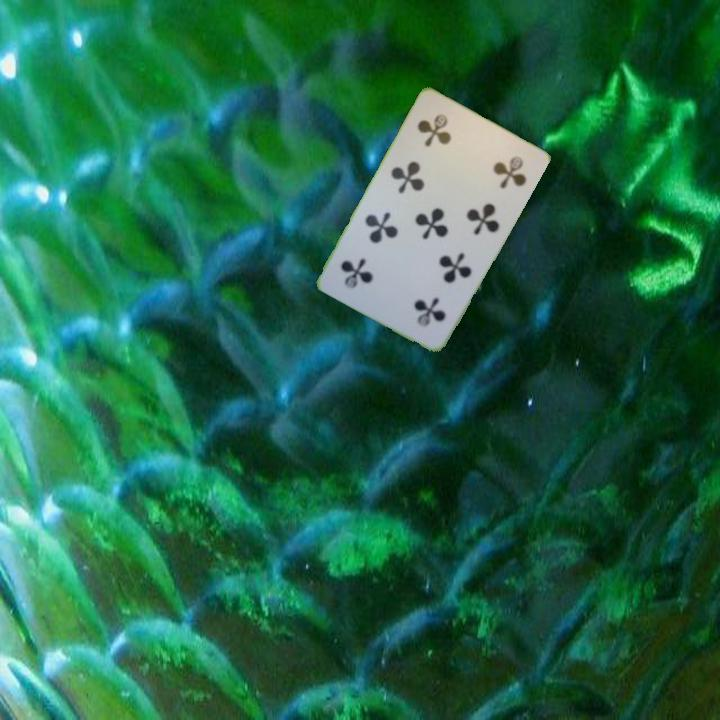c_9.png: (380, 262, 464, 343), (401, 98, 485, 179)
